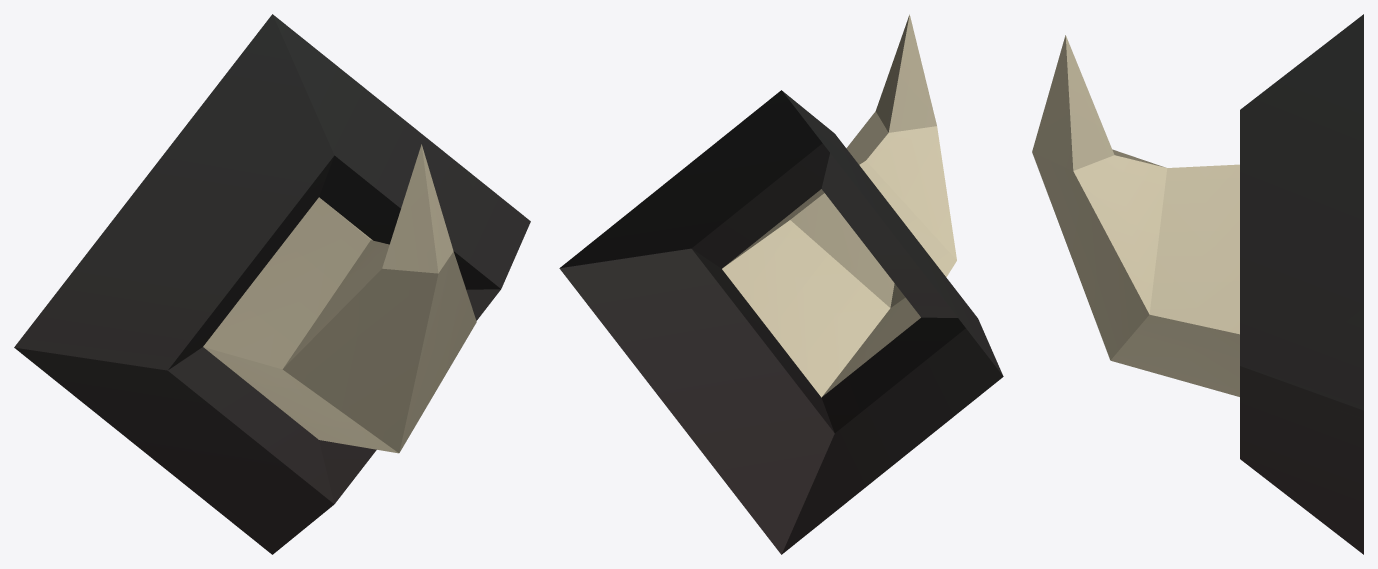
File: SM_Point_01.fbx
3 views of the same model, side by side, from view 1: azimuth 30°, elevation 25°; view 2: azimuth 150°, elevation 25°; view 3: azimuth 270°, elevation 25° (orthographic). The views are drawn at different scales.
Parts seen in each view (by area): view 1: SM_Point_01; view 2: SM_Point_01; view 3: SM_Point_01.
Boxes of the visible parts, box(x1,y1,x2,y2) form: SM_Point_01: box(14, 14, 530, 554); SM_Point_01: box(559, 14, 1003, 554); SM_Point_01: box(1032, 14, 1363, 554).
Bounding box in the file's own units: 141 × 141 × 78.65.
1 material, 1 textured.
